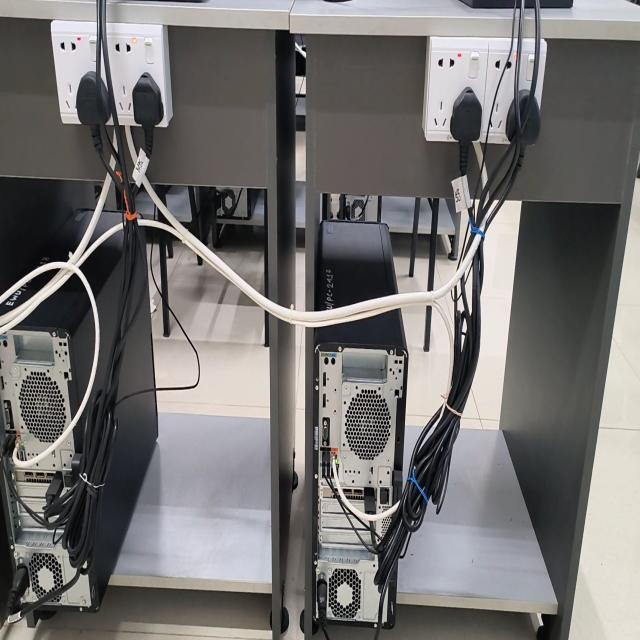Cpu: (0, 200, 160, 611), (314, 218, 407, 627), (214, 183, 264, 222), (323, 193, 382, 226)
